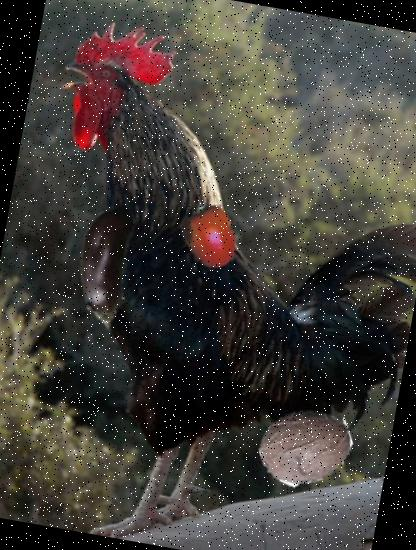Cocos: (252, 394, 359, 501)
Eggplant: (31, 193, 178, 340)
Kaki: (172, 200, 246, 276)
